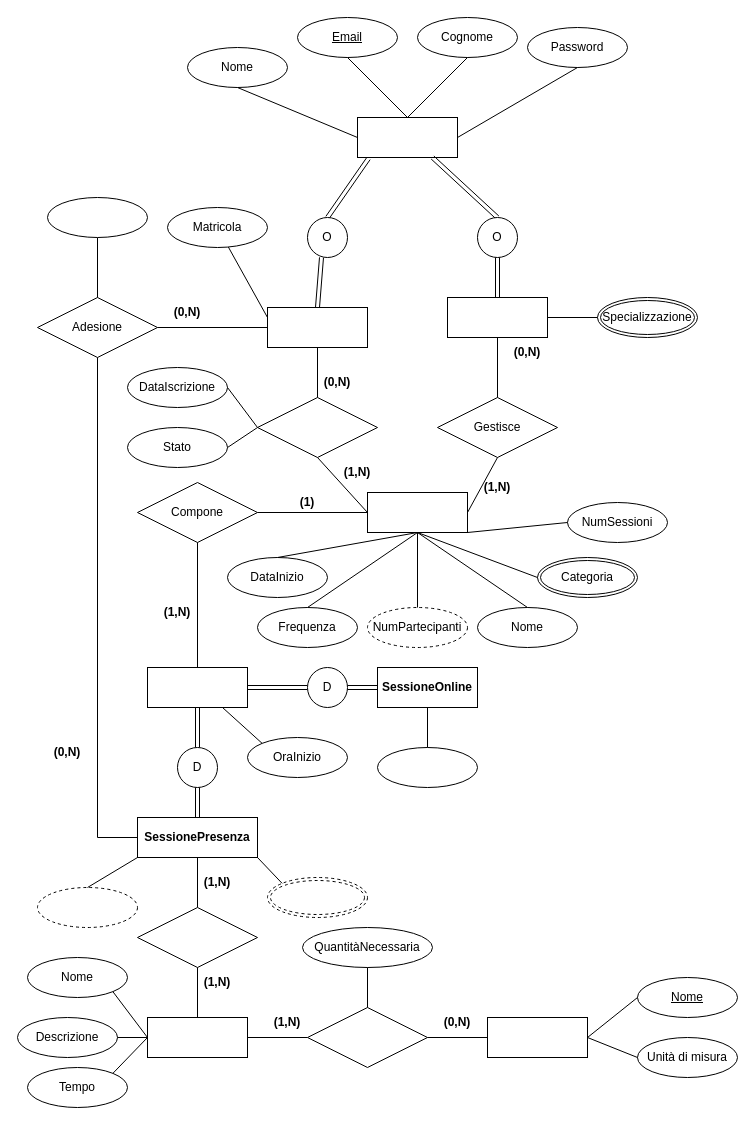
Image size: 755x1125. Some labels were removed from this diagram. The centre of each missing label's shape, as x and y in pixels:
"Chef" goes at pixel 497 317.
"Corso" goes at pixel 417 512.
"DataAdesione" goes at pixel 97 217.
"Ingrediente" goes at pixel 537 1037.
"Iscrizione" goes at pixel 317 427.
"NumeroAderenti" goes at pixel 87 907.
"Prepara" goes at pixel 197 937.
"QuantitàTotale" goes at pixel 317 897.
"Ricetta" goes at pixel 197 1037.
"Richiede" goes at pixel 367 1037.
"Sessione" goes at pixel 197 687.
"Studente" goes at pixel 317 327.
"Teoria" goes at pixel 427 767.
"Utente" goes at pixel 407 137.
